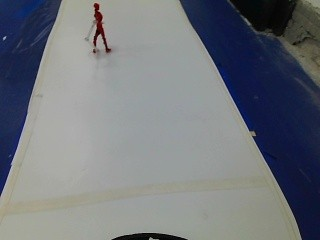pedestrian: (79, 0, 119, 56)
